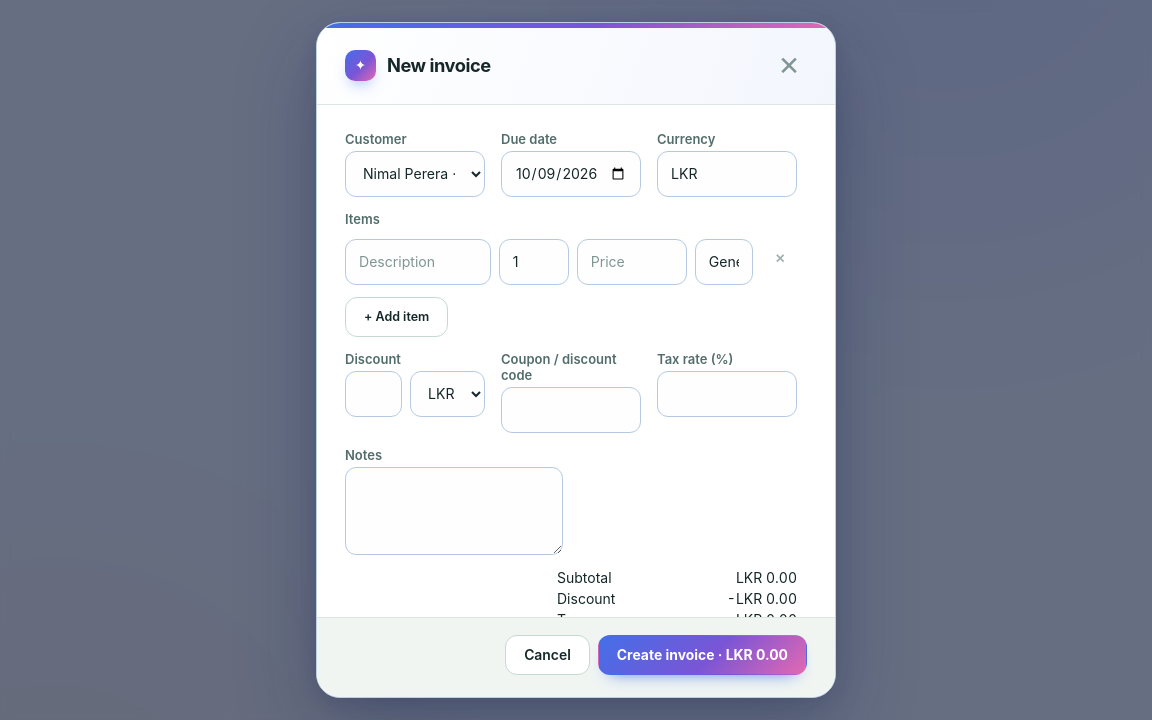
Test: <InvoiceFormModal /> › shows the server message when creation fails
In the field named "Item 1 description": (418, 262) top-left (345, 239), bottom-right (491, 285), type "Consultation"
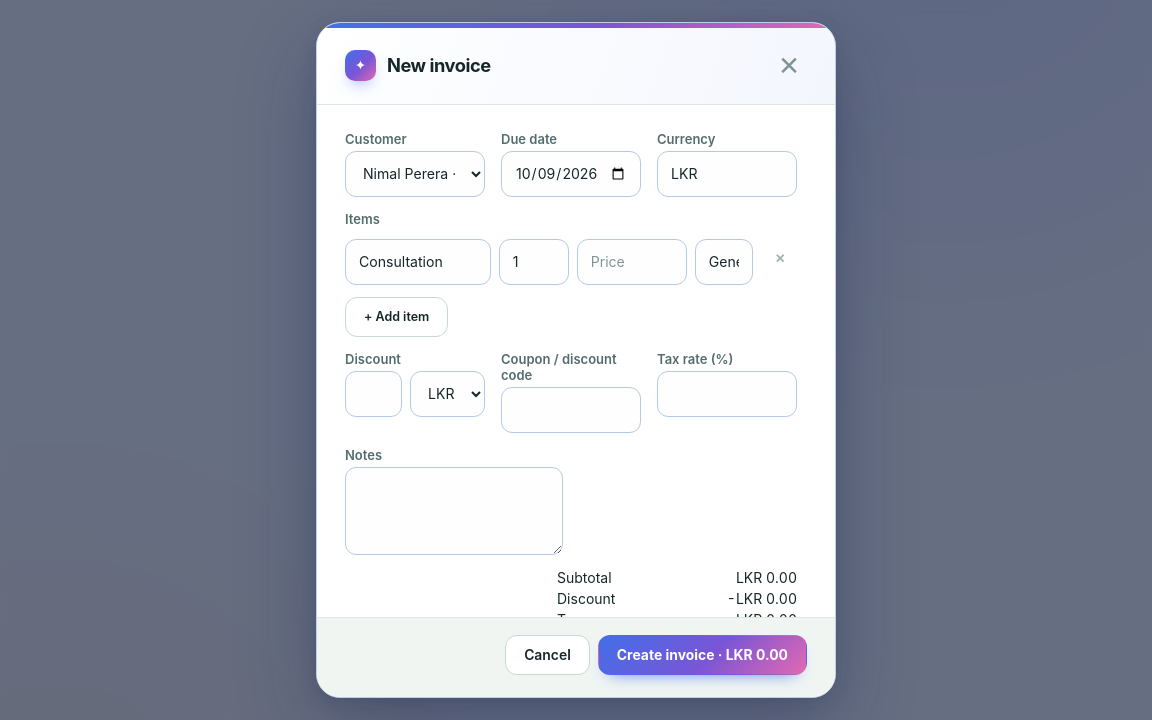
In the number field named "Item 1 unit price": (632, 262) top-left (577, 239), bottom-right (687, 285), type "3500"
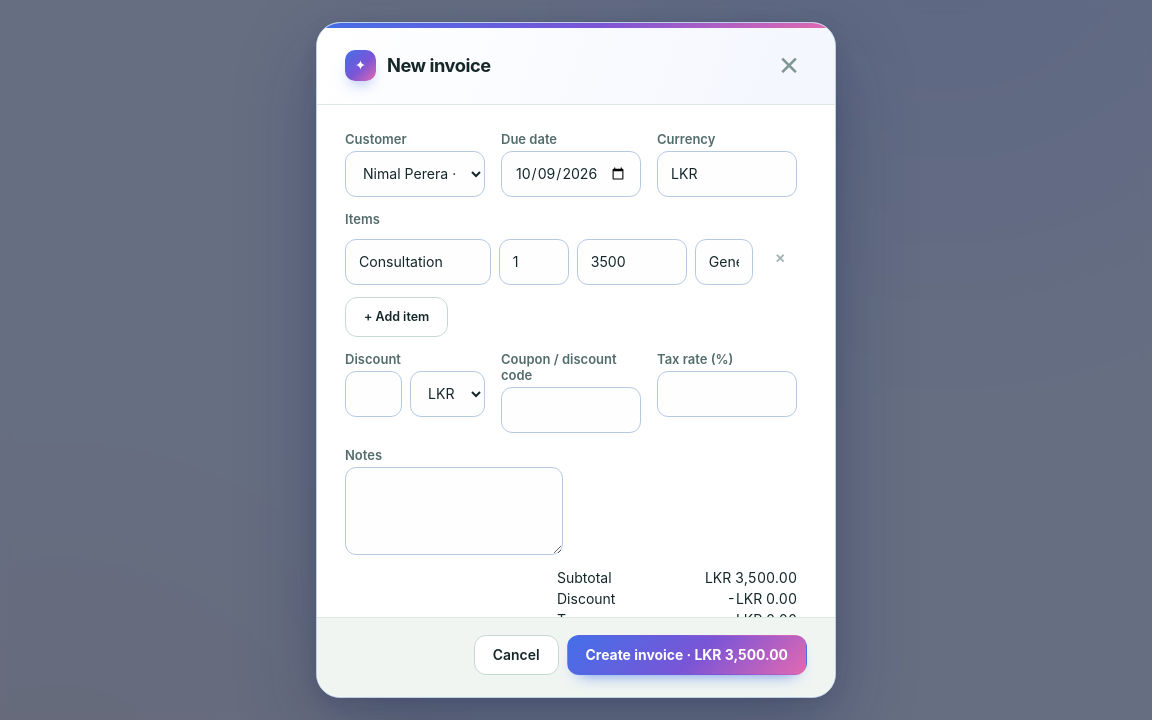
Click the button "Create invoice · LKR 3,500.00": (687, 655) top-left (567, 635), bottom-right (807, 675)
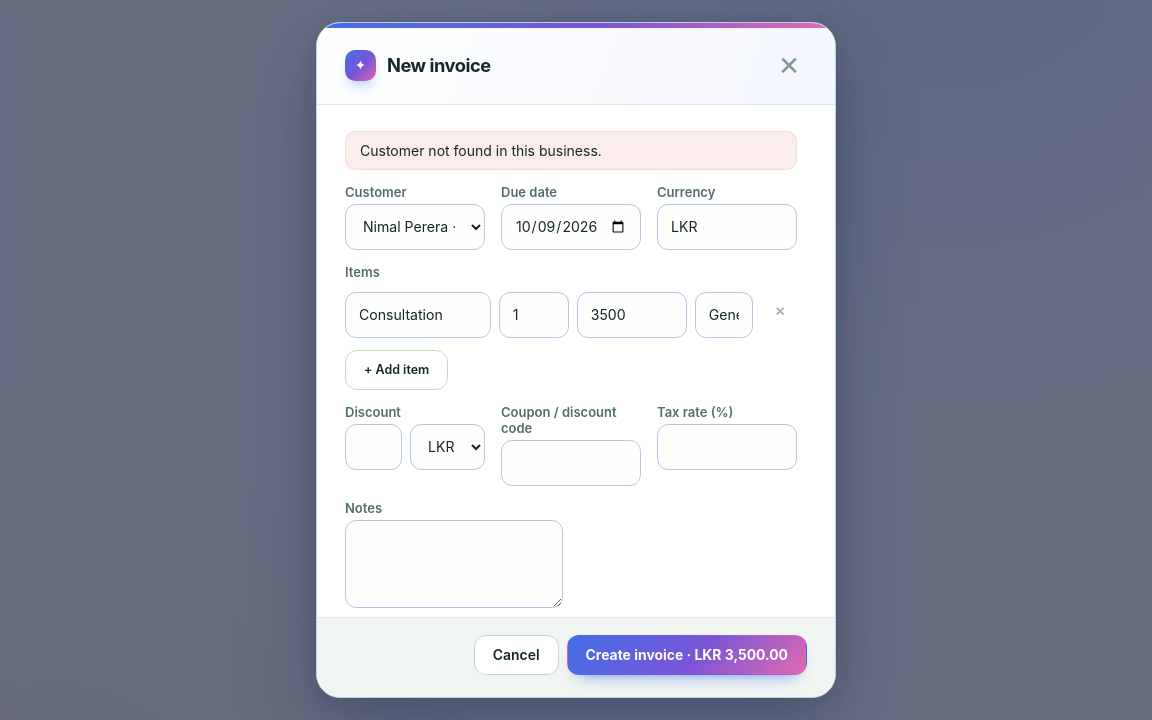
Check: the message reads "Customer not found in this business.", box top-left (360, 142), bottom-right (602, 159)
